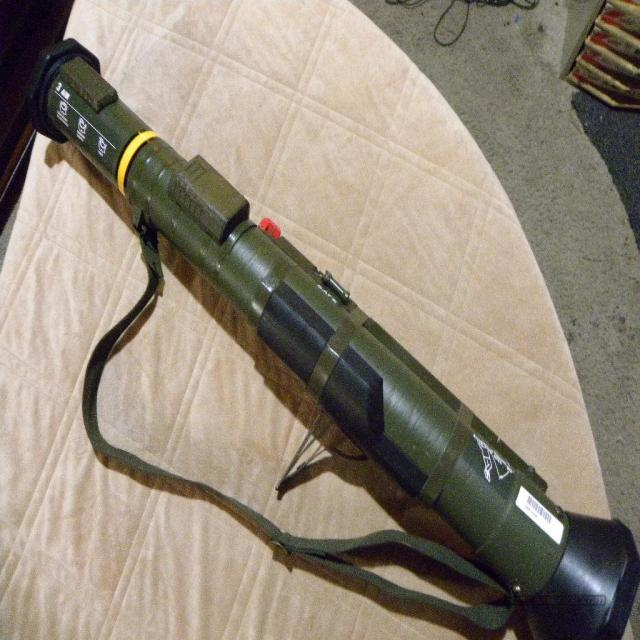bazooka: (1, 42, 640, 640)
